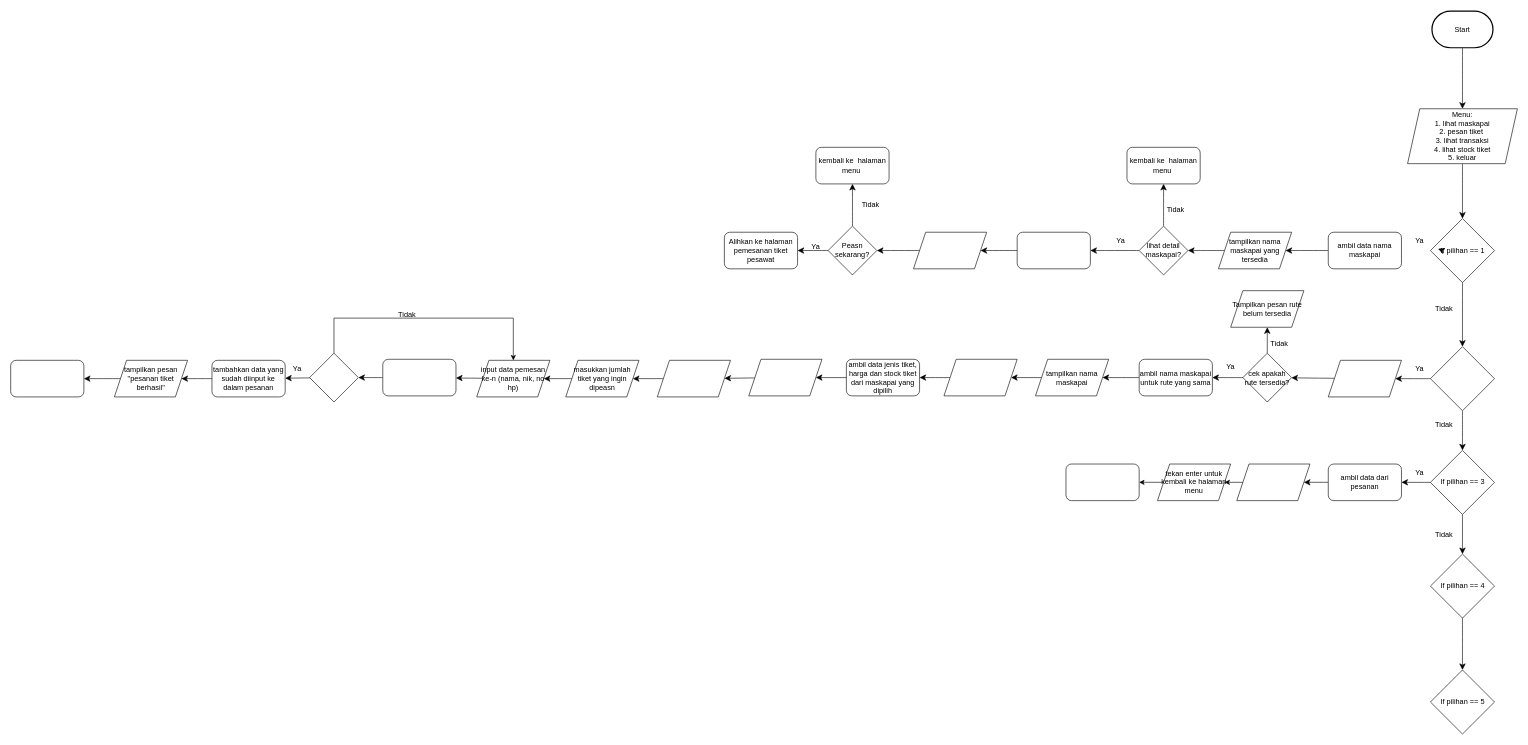
The diagram is 1528 pixels wide and 745 high, and some of its shapes have lost their labels. The shapes that lost their labels are listed below. From the top down, each one's centre as x and y in pixels, then its label:
At point (950, 250): "tampilkan semua data maskapai".
At point (1053, 250): "ambil semua data yang ada di data maskapai".
At point (47, 378): "alihkan ke halaman menu utama".
At point (333, 377): "jumlah tiket == 0".
At point (419, 377): "jumlah tiket - 1".
At point (693, 378): "pilih tiket yang ingin dipesan".
At point (785, 377): "tampilkan tiket yang tersedia".
At point (980, 377): "pilih maskapai".
At point (1364, 378): "input asal dan tujuan".
At point (1462, 378): "If pilihan == 2".
At point (1102, 482): "dikembalikan ke halaman mennu".
At point (1273, 482): "tampilkan data pesanan".
